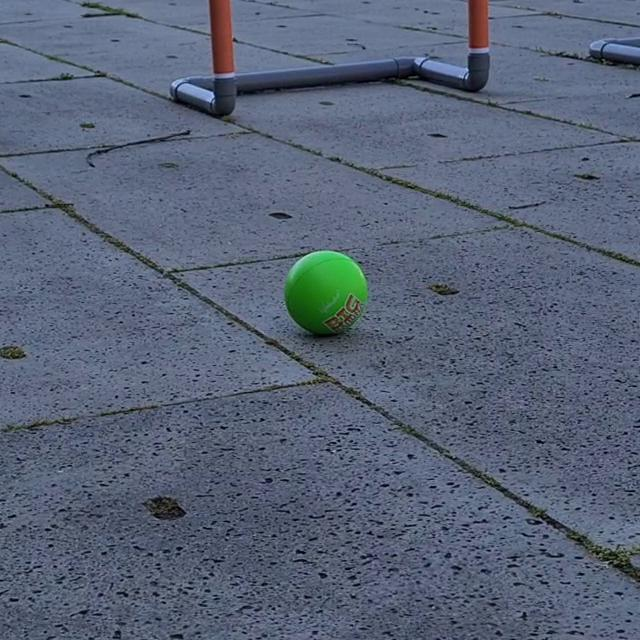ball: (278, 247, 371, 340)
